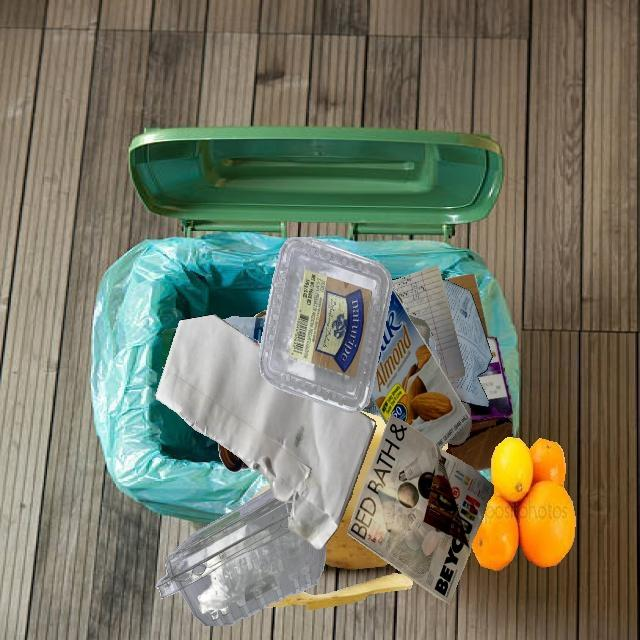biowaste: (471, 437, 575, 571), (245, 432, 374, 503), (347, 449, 441, 537), (296, 484, 355, 594), (266, 574, 413, 610), (326, 537, 388, 569)
cardboard: (371, 287, 470, 449), (443, 274, 514, 472)
glass: (446, 401, 472, 445), (218, 443, 250, 473), (254, 310, 267, 318)
paper: (156, 314, 376, 550), (347, 414, 494, 604), (392, 266, 465, 395), (442, 279, 492, 407)
plastic: (155, 488, 326, 626), (259, 237, 393, 413), (222, 316, 265, 345), (408, 315, 430, 346), (162, 328, 177, 369), (428, 332, 439, 365), (239, 331, 260, 346), (361, 404, 381, 416), (348, 490, 353, 503)
